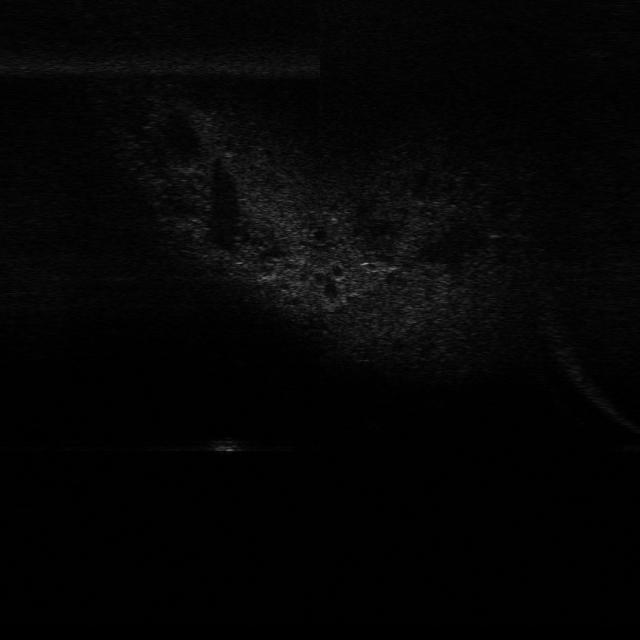cube: (206, 434, 246, 454)
